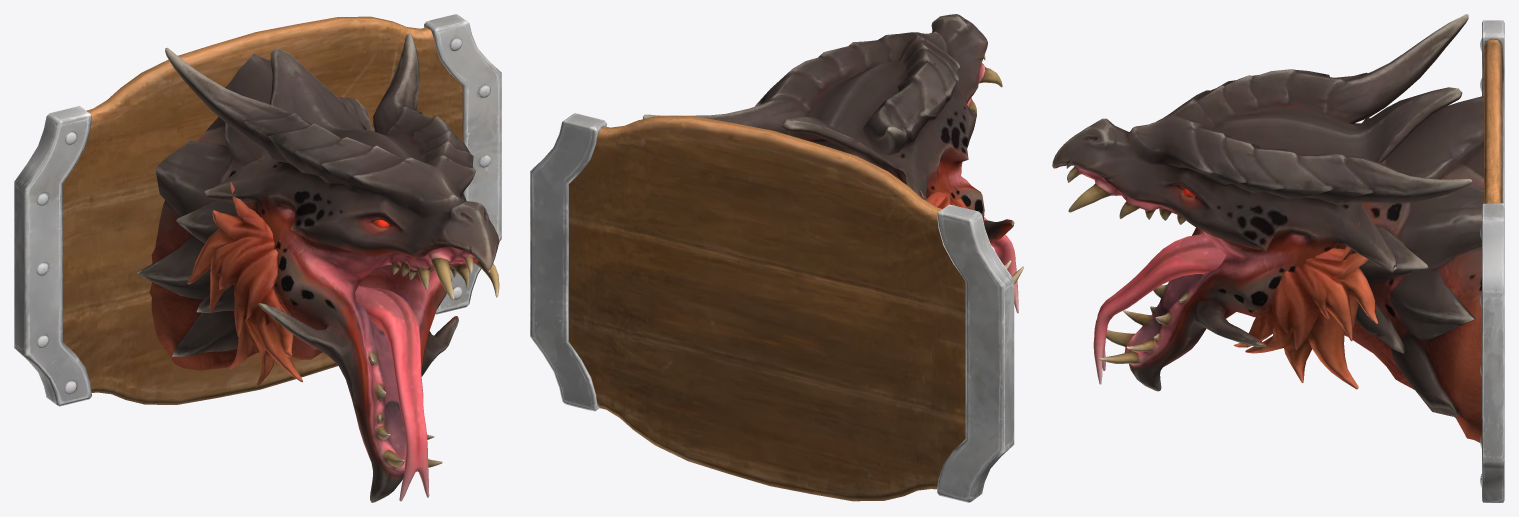
3 views of the same model, side by side, from view 1: azimuth 30°, elevation 25°; view 2: azimuth 150°, elevation 25°; view 3: azimuth 270°, elevation 25° (orthographic).
Parts seen in each view (by area): view 1: SM_Trophy_Plaque_DragonWolf_LOD0; view 2: SM_Trophy_Plaque_DragonWolf_LOD0; view 3: SM_Trophy_Plaque_DragonWolf_LOD0.
Boxes of the visible parts, x1,y1,x2,y2 form: SM_Trophy_Plaque_DragonWolf_LOD0: (14, 14, 501, 502); SM_Trophy_Plaque_DragonWolf_LOD0: (530, 14, 1023, 502); SM_Trophy_Plaque_DragonWolf_LOD0: (1052, 14, 1504, 502).
Size of the model in its own units: 0.8959 by 0.6736 by 0.7382.
2 materials, 2 textured.
